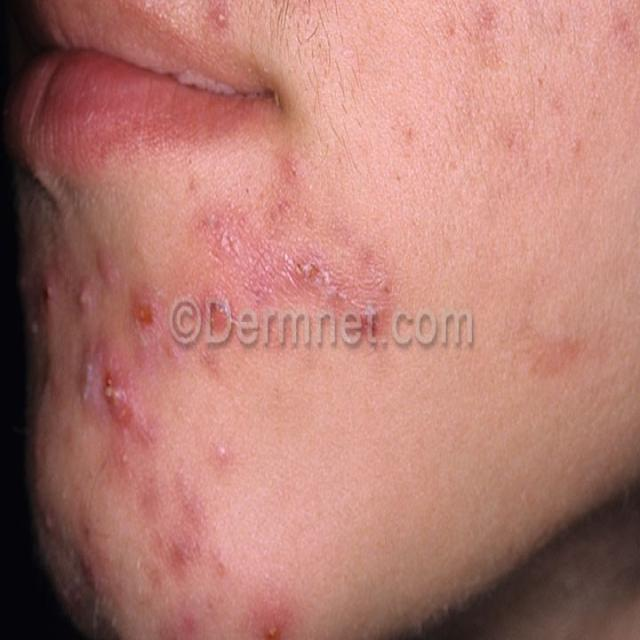Acne: (78, 339, 134, 422), (130, 289, 164, 344), (285, 253, 333, 288), (104, 371, 133, 423), (80, 550, 110, 594), (139, 474, 163, 524), (96, 248, 122, 290), (169, 538, 201, 570), (209, 0, 235, 35), (74, 279, 94, 317), (281, 153, 305, 184), (182, 608, 202, 640), (221, 231, 243, 259), (40, 275, 57, 310), (262, 615, 282, 640), (116, 443, 133, 472), (162, 339, 181, 364), (214, 440, 232, 464), (42, 511, 56, 536)
